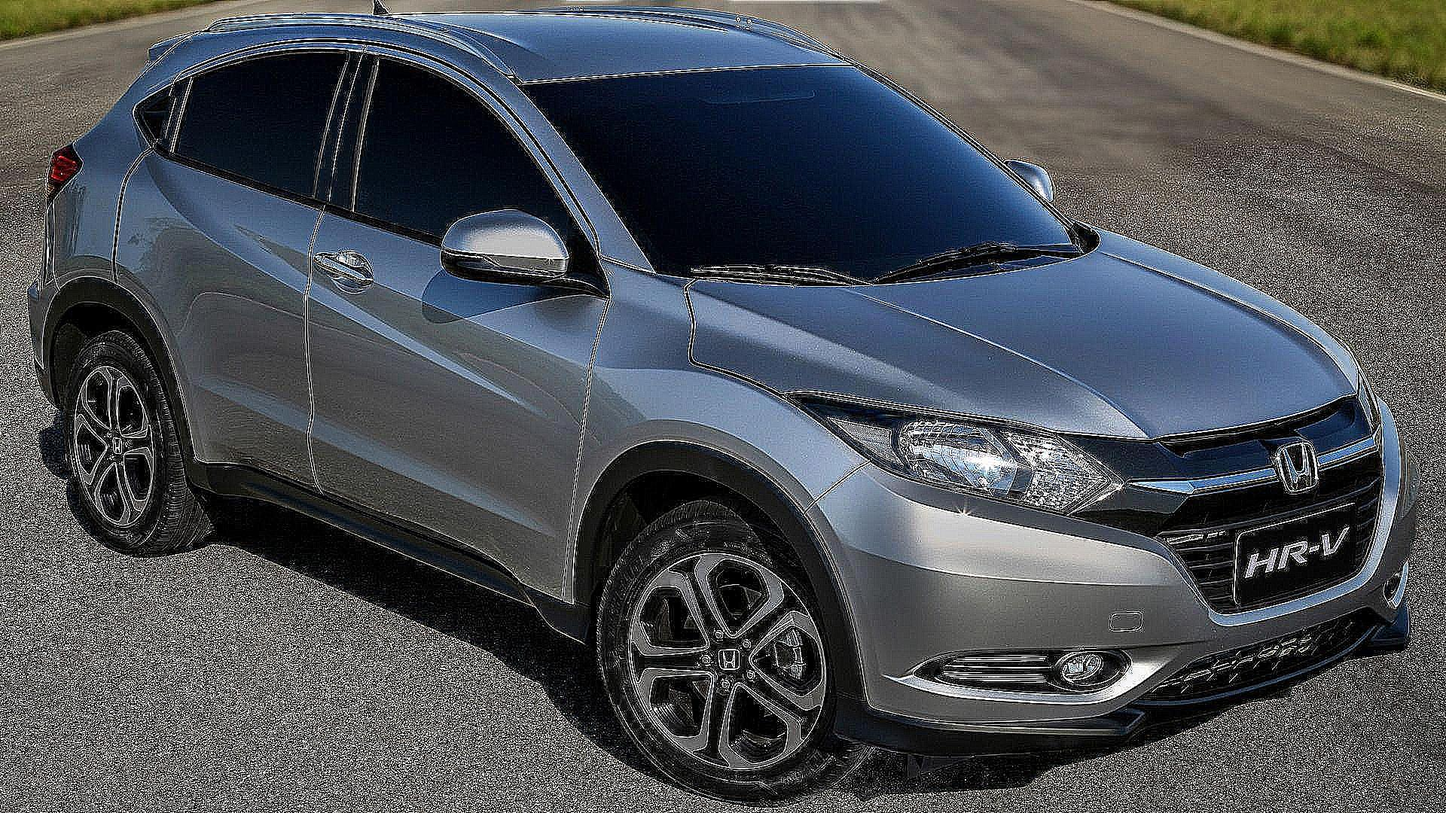Car hood: (678, 211, 1365, 443)
Driver-s door - -F-R-: (301, 14, 614, 615)
Fender - -F-R-: (566, 247, 869, 634)
Fender - -R-R-: (28, 87, 152, 345)
Front bumper: (796, 419, 1446, 767)
Headlight - -R-: (780, 393, 1122, 519)
Passenger-s door - -R-R-: (110, 9, 377, 502)
Rear bumper: (13, 279, 87, 426)
Rear light - -R-: (43, 132, 88, 213)
Side bumper - -R-: (185, 424, 595, 646)
Side mirror - -R-: (437, 207, 615, 306)
